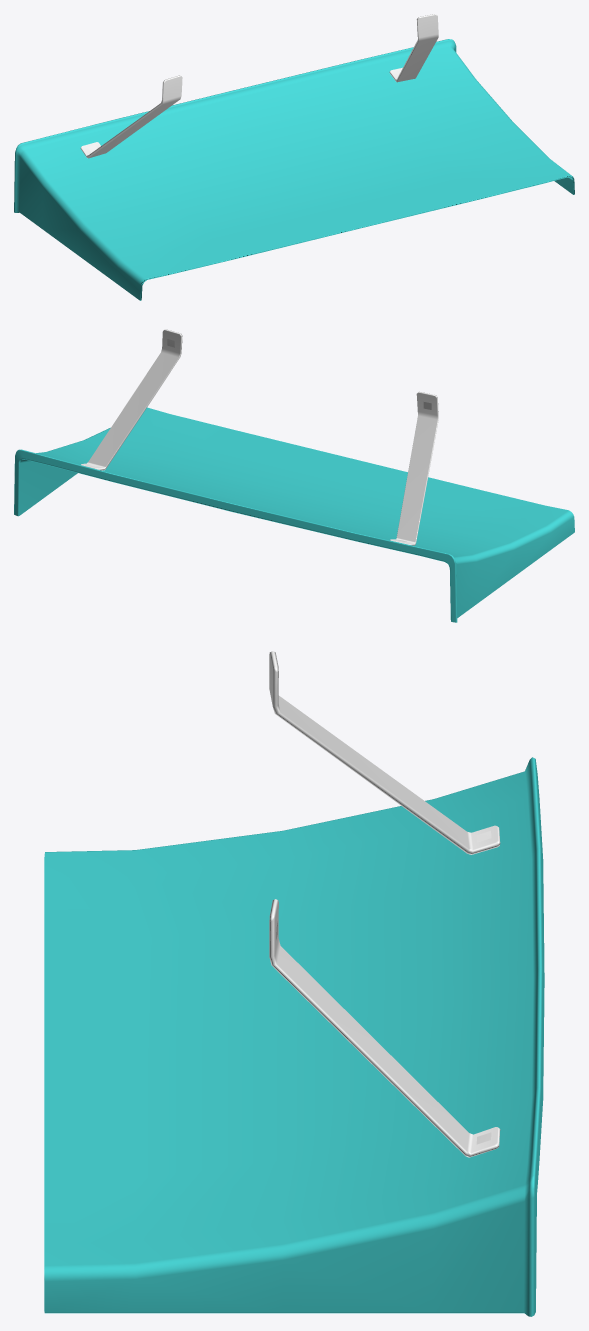
Rendered from Car_Buick_GrandNational_1987_Diffuser_SetEG.fbx.
3 renders of one model, top to bottom at view 1: azimuth 30°, elevation 25°; view 2: azimuth 150°, elevation 25°; view 3: azimuth 270°, elevation 25°, orthographic. The views are drawn at different scales.
Visible parts, largest first — view 1: Diffuser 6; view 2: Diffuser 6; view 3: Diffuser 6.
Part boxes in pixels (x1,y1,x2,y2): Diffuser 6: [14, 14, 574, 300]; Diffuser 6: [14, 329, 574, 622]; Diffuser 6: [44, 651, 544, 1316].
Bounding box in the file's own units: 0.8607 × 0.2961 × 0.4205.
